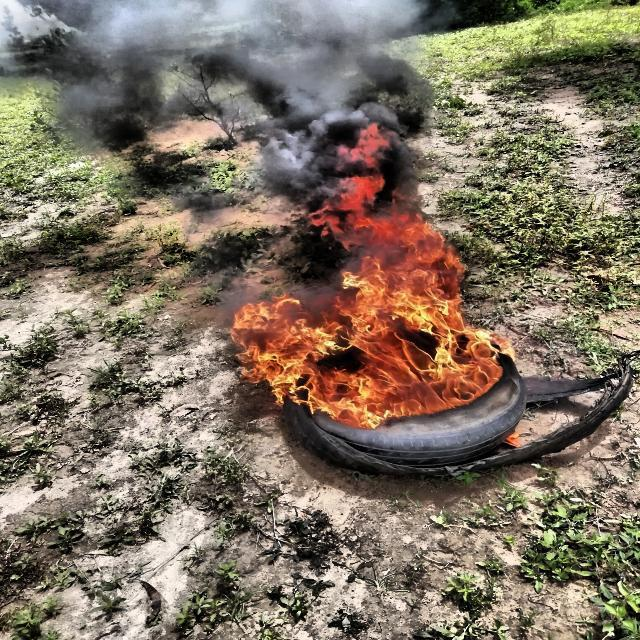Fire: (233, 138, 512, 424)
Smoke: (3, 0, 429, 136)
